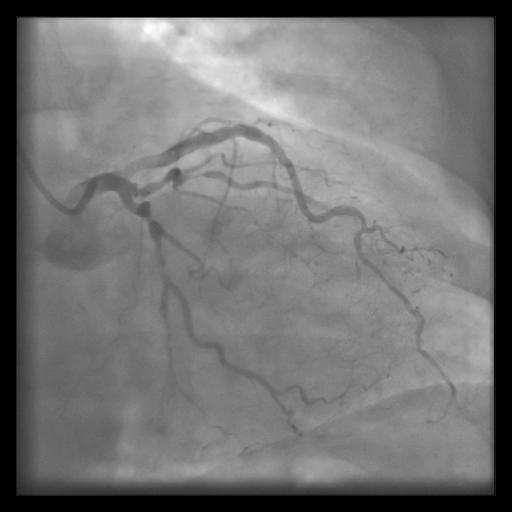Stenosis: (133, 202, 159, 231)
